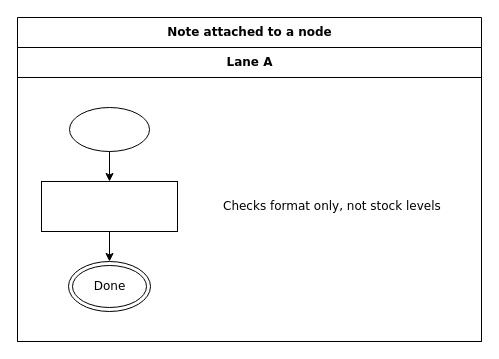
This 499x359 diagram has some shape labels left out. Here are the shapes that lost their labels. From the top down, the box of each, then its label:
(68, 106, 150, 152): Enter
(40, 180, 178, 232): Check input data
